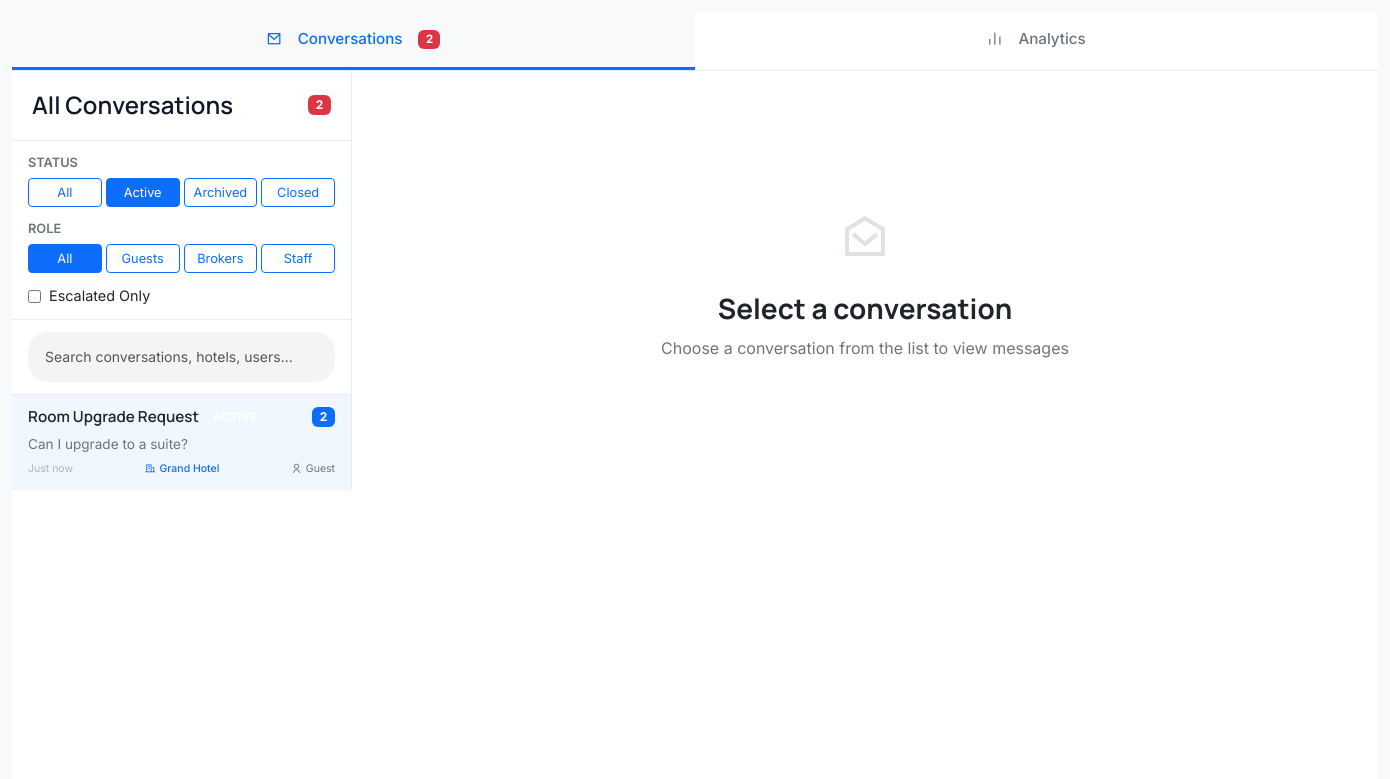
Scenario: AdminMessagesPage › switches to analytics view
Expected: the heading "Room Upgrade Request" is shown, [28,408,199,426]
Click the button "Analytics".
click(1036, 41)  # box [695,12,1378,70]
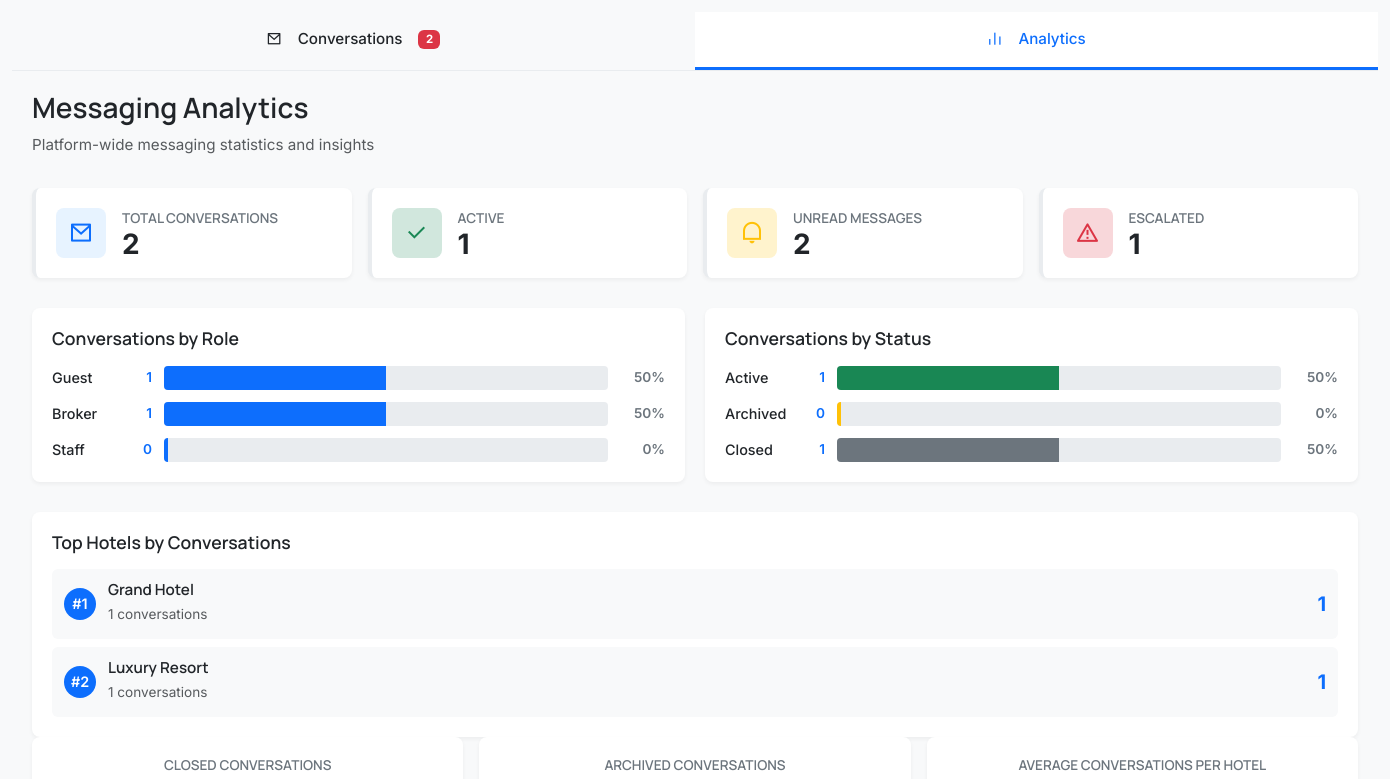
Expected: the heading "Messaging Analytics" is shown, [32,88,308,126]
